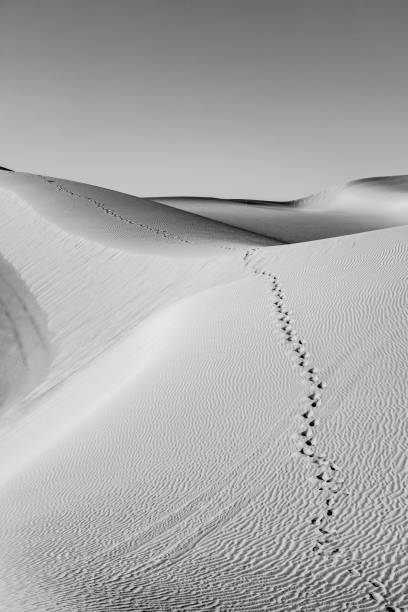human_foot_print: (243, 248, 400, 611)
